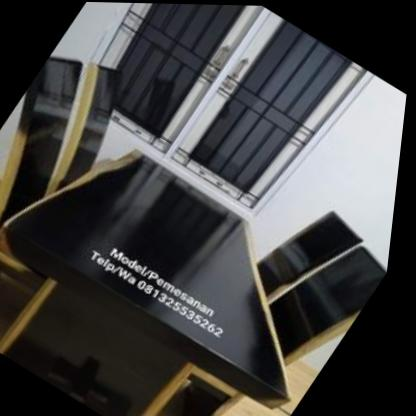Dining Table: (0, 28, 414, 416)
